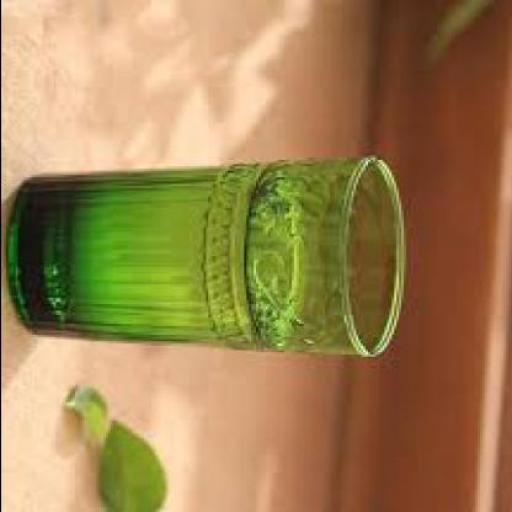biodegradable: (102, 420, 174, 510), (62, 383, 112, 438)
glass: (2, 152, 408, 354)
